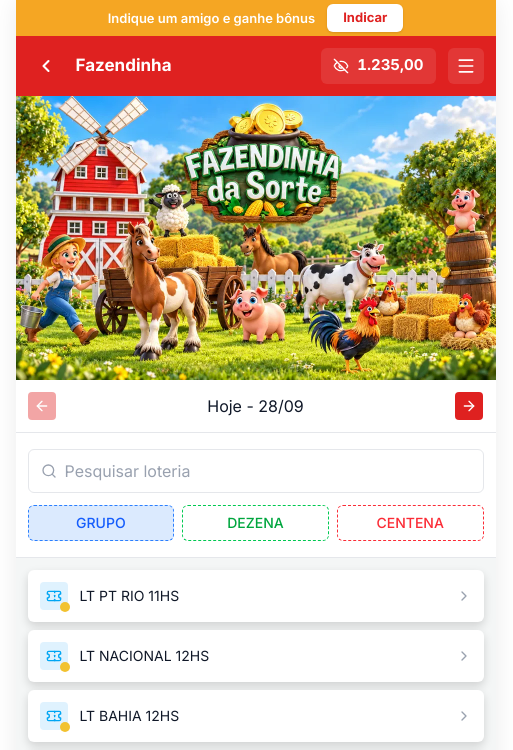
FazendinhaPage › busca filtra e avisa quando não encontra; só sorteios da Fazendinha e do dia
In the search field labelled "Pesquisar loteria": (268, 470) 64,458 -> 470,482, type " bahia 12 "
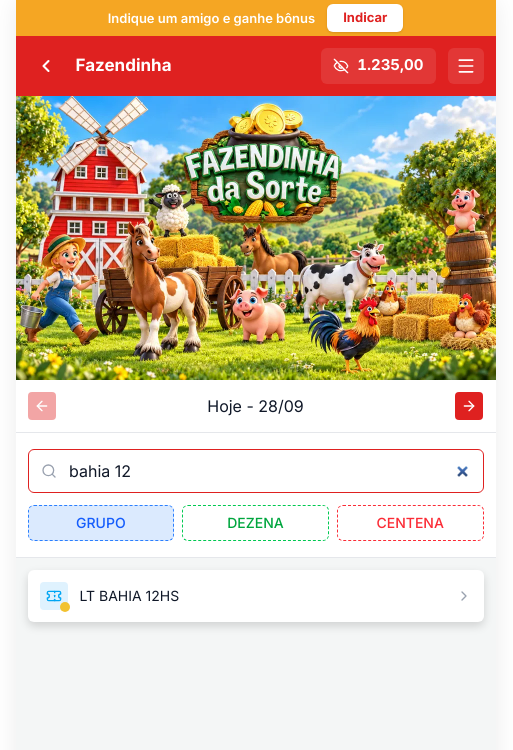
In the search field named "Pesquisar loteria": (268, 470) 64,458 -> 470,482, type "xyz"
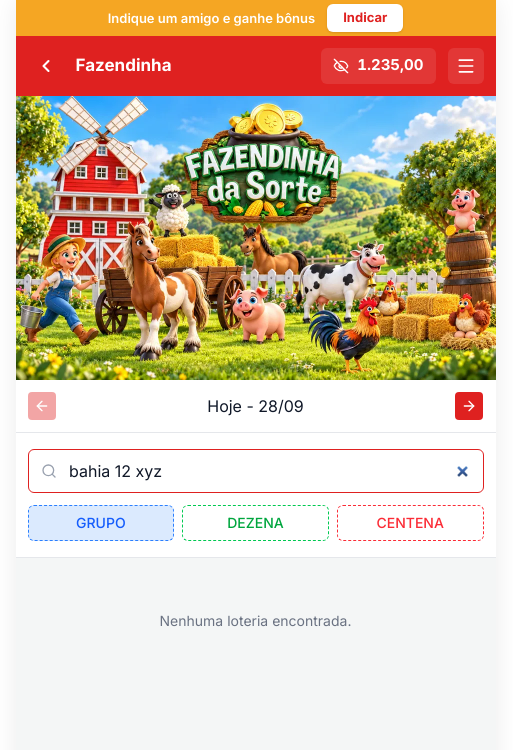
Expected: the text "Nenhuma loteria encontrada." is shown, 160,612 -> 352,628
